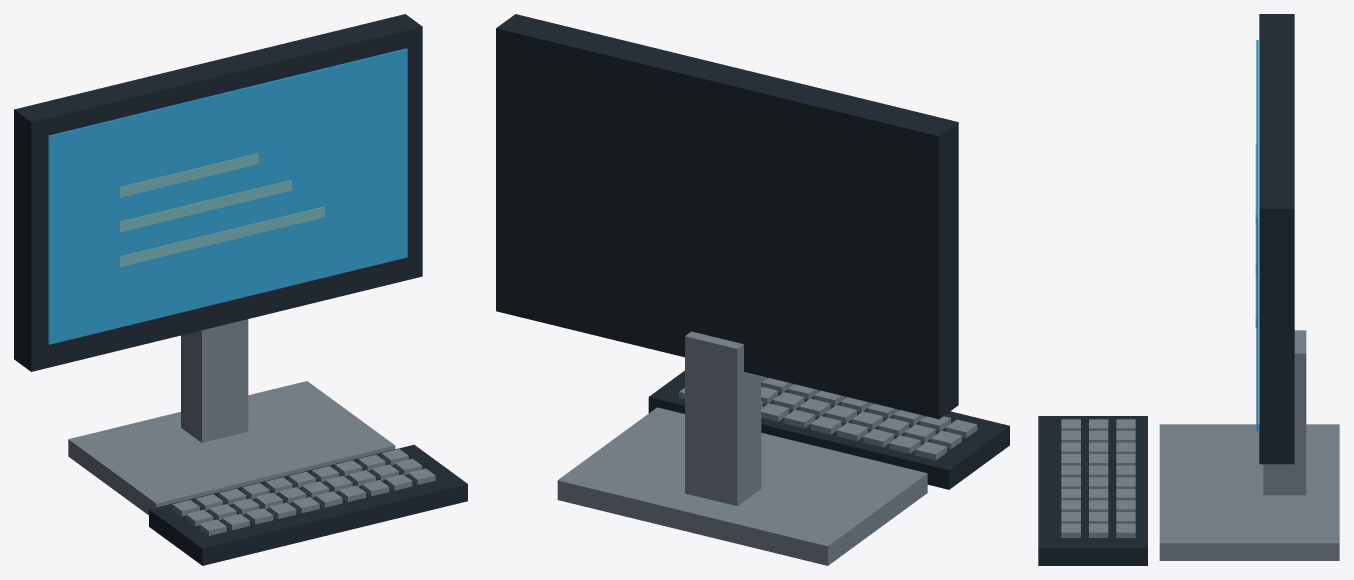
Rendered from desktop-terminal-lod0.glb.
The picture shows the model from 3 angles, left to right: view 1: azimuth 30°, elevation 25°; view 2: azimuth 150°, elevation 25°; view 3: azimuth 270°, elevation 25°; orthographic projection. The views are drawn at different scales.
Visible parts, largest first — view 1: screen, monitor, foot, keyboard, stand, screen-line (×3); view 2: monitor, foot, stand, keyboard; view 3: foot, monitor, keyboard, stand, screen.
Boxes of the visible parts, left/top/right/bottom form: screen: left=48, top=48, right=407, bottom=344; monitor: left=14, top=14, right=422, bottom=371; foot: left=68, top=381, right=395, bottom=515; keyboard: left=149, top=444, right=467, bottom=565; stand: left=181, top=319, right=248, bottom=442; screen-line (×3): left=119, top=153, right=324, bottom=267; monitor: left=496, top=14, right=958, bottom=419; foot: left=557, top=407, right=927, bottom=565; stand: left=685, top=331, right=761, bottom=506; keyboard: left=648, top=370, right=1009, bottom=489; foot: left=1159, top=424, right=1339, bottom=560; monitor: left=1259, top=14, right=1294, bottom=464; keyboard: left=1038, top=416, right=1147, bottom=565; stand: left=1263, top=330, right=1306, bottom=495; screen: left=1256, top=40, right=1258, bottom=431.
Bounding box in the file's own units: 0.59 × 0.55 × 0.385.
